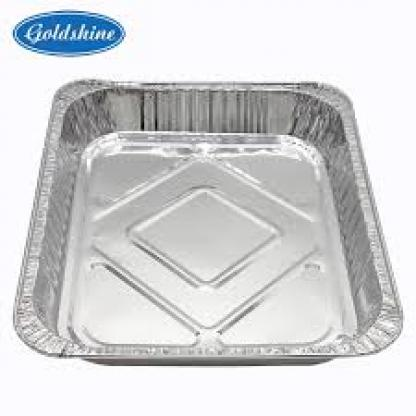METAL: (11, 76, 401, 362)
